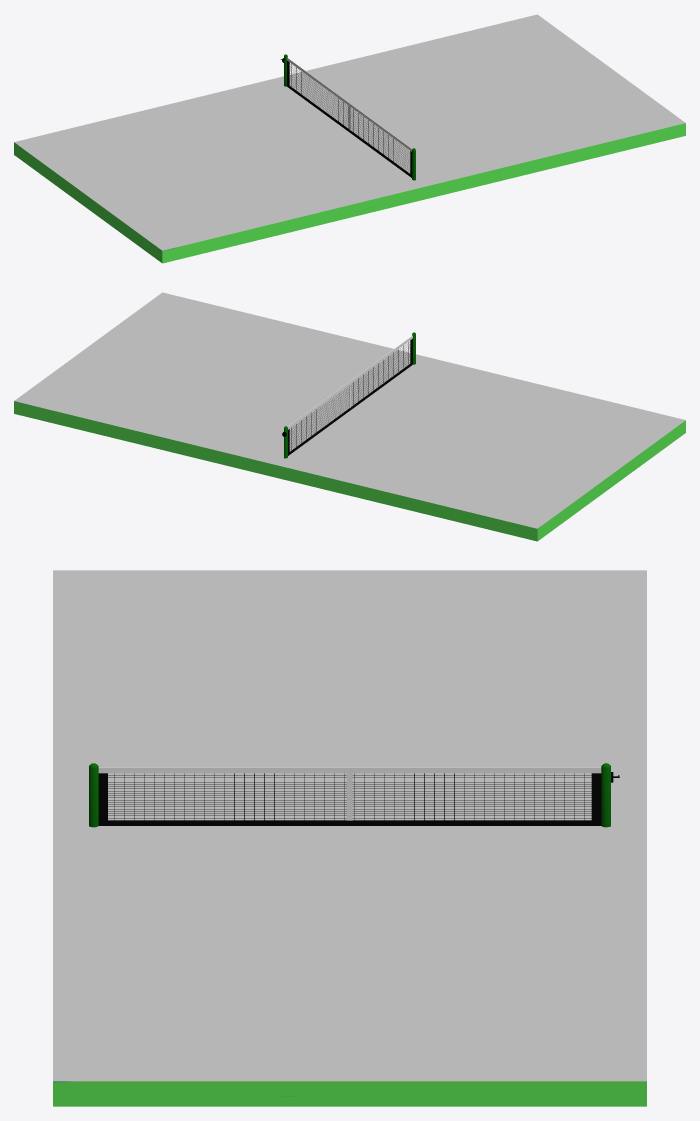
Rendered from tennis_court.dae.
3 views of the same model, one above another, from view 1: azimuth 30°, elevation 25°; view 2: azimuth 150°, elevation 25°; view 3: azimuth 270°, elevation 25° (orthographic). The views are drawn at different scales.
Visible parts, largest first — view 1: Court_Mesh, Net_Mesh.001; view 2: Court_Mesh, Net_Mesh.001; view 3: Court_Mesh, Net_Mesh.001.
Boxes of the visible parts, x1,y1,x2,y2 form: Court_Mesh: [14, 14, 685, 263]; Net_Mesh.001: [280, 54, 415, 180]; Court_Mesh: [14, 292, 685, 541]; Net_Mesh.001: [282, 332, 415, 458]; Court_Mesh: [53, 570, 646, 1106]; Net_Mesh.001: [89, 763, 619, 827].
Size of the model in its own units: 14.48 by 7.11 by 1.16.
